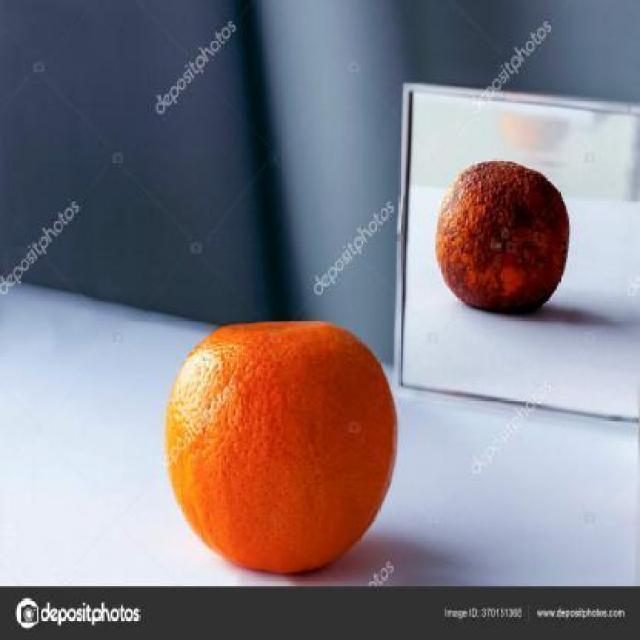Jeruk Sudah Matang: (166, 317, 394, 571), (436, 158, 572, 317)
